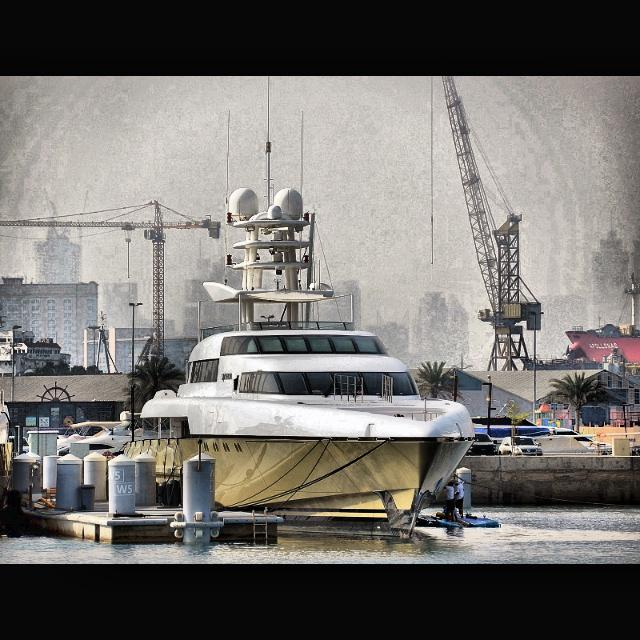yacht: (115, 185, 477, 540)
